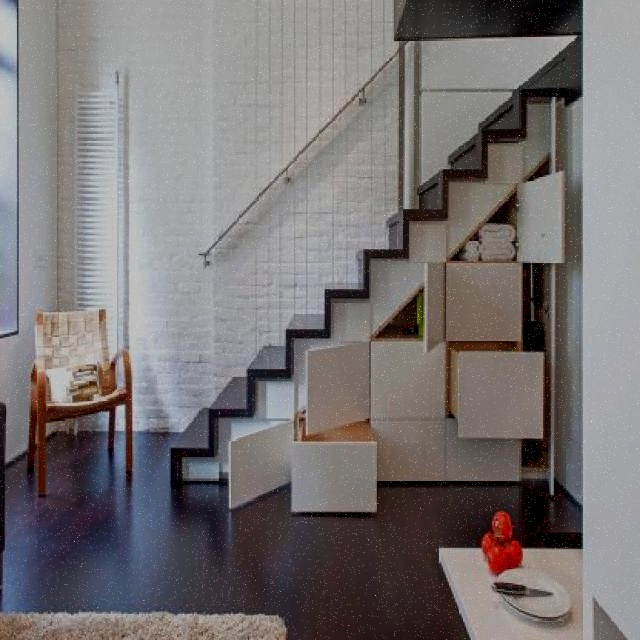stair: (164, 48, 581, 509)
